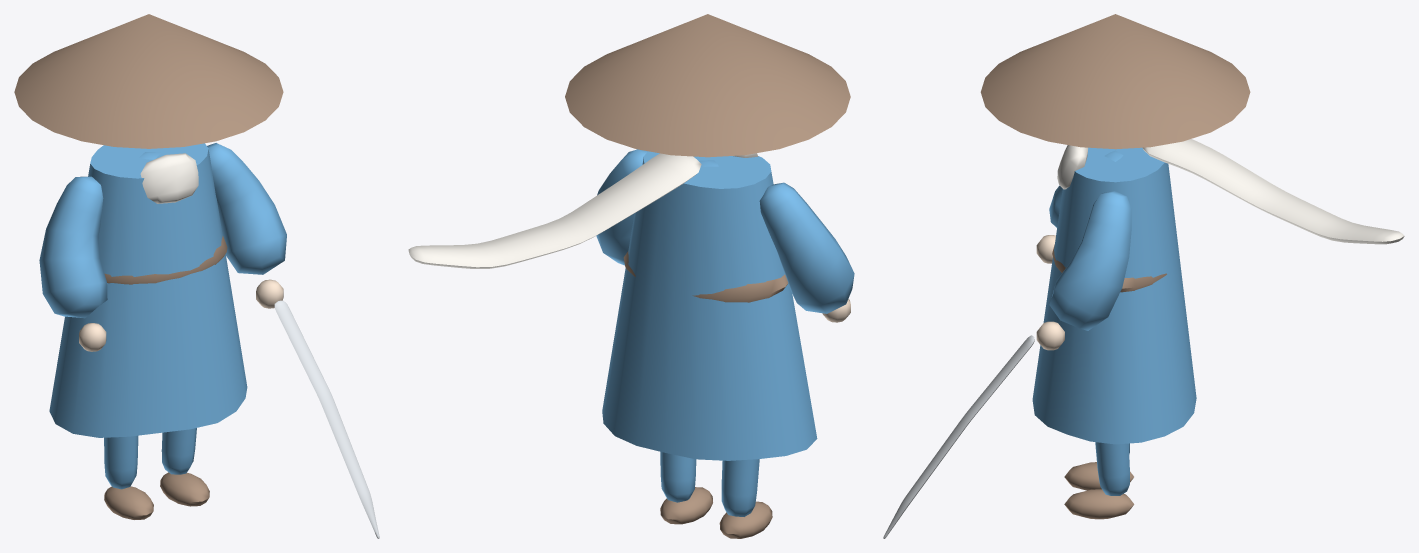
The model's file is PL_Player_I.fbx.
The picture shows the model from 3 angles, left to right: view 1: azimuth 30°, elevation 25°; view 2: azimuth 150°, elevation 25°; view 3: azimuth 270°, elevation 25°; orthographic projection. The views are drawn at different scales.
Parts seen in each view (by area): view 1: PL_Player_I; view 2: PL_Player_I; view 3: PL_Player_I.
Boxes of the visible parts, x1,y1,x2,y2 form: PL_Player_I: (14, 14, 379, 538); PL_Player_I: (408, 14, 854, 538); PL_Player_I: (883, 14, 1404, 538).
Size of the model in its own units: 1.12 by 2 by 1.93.
